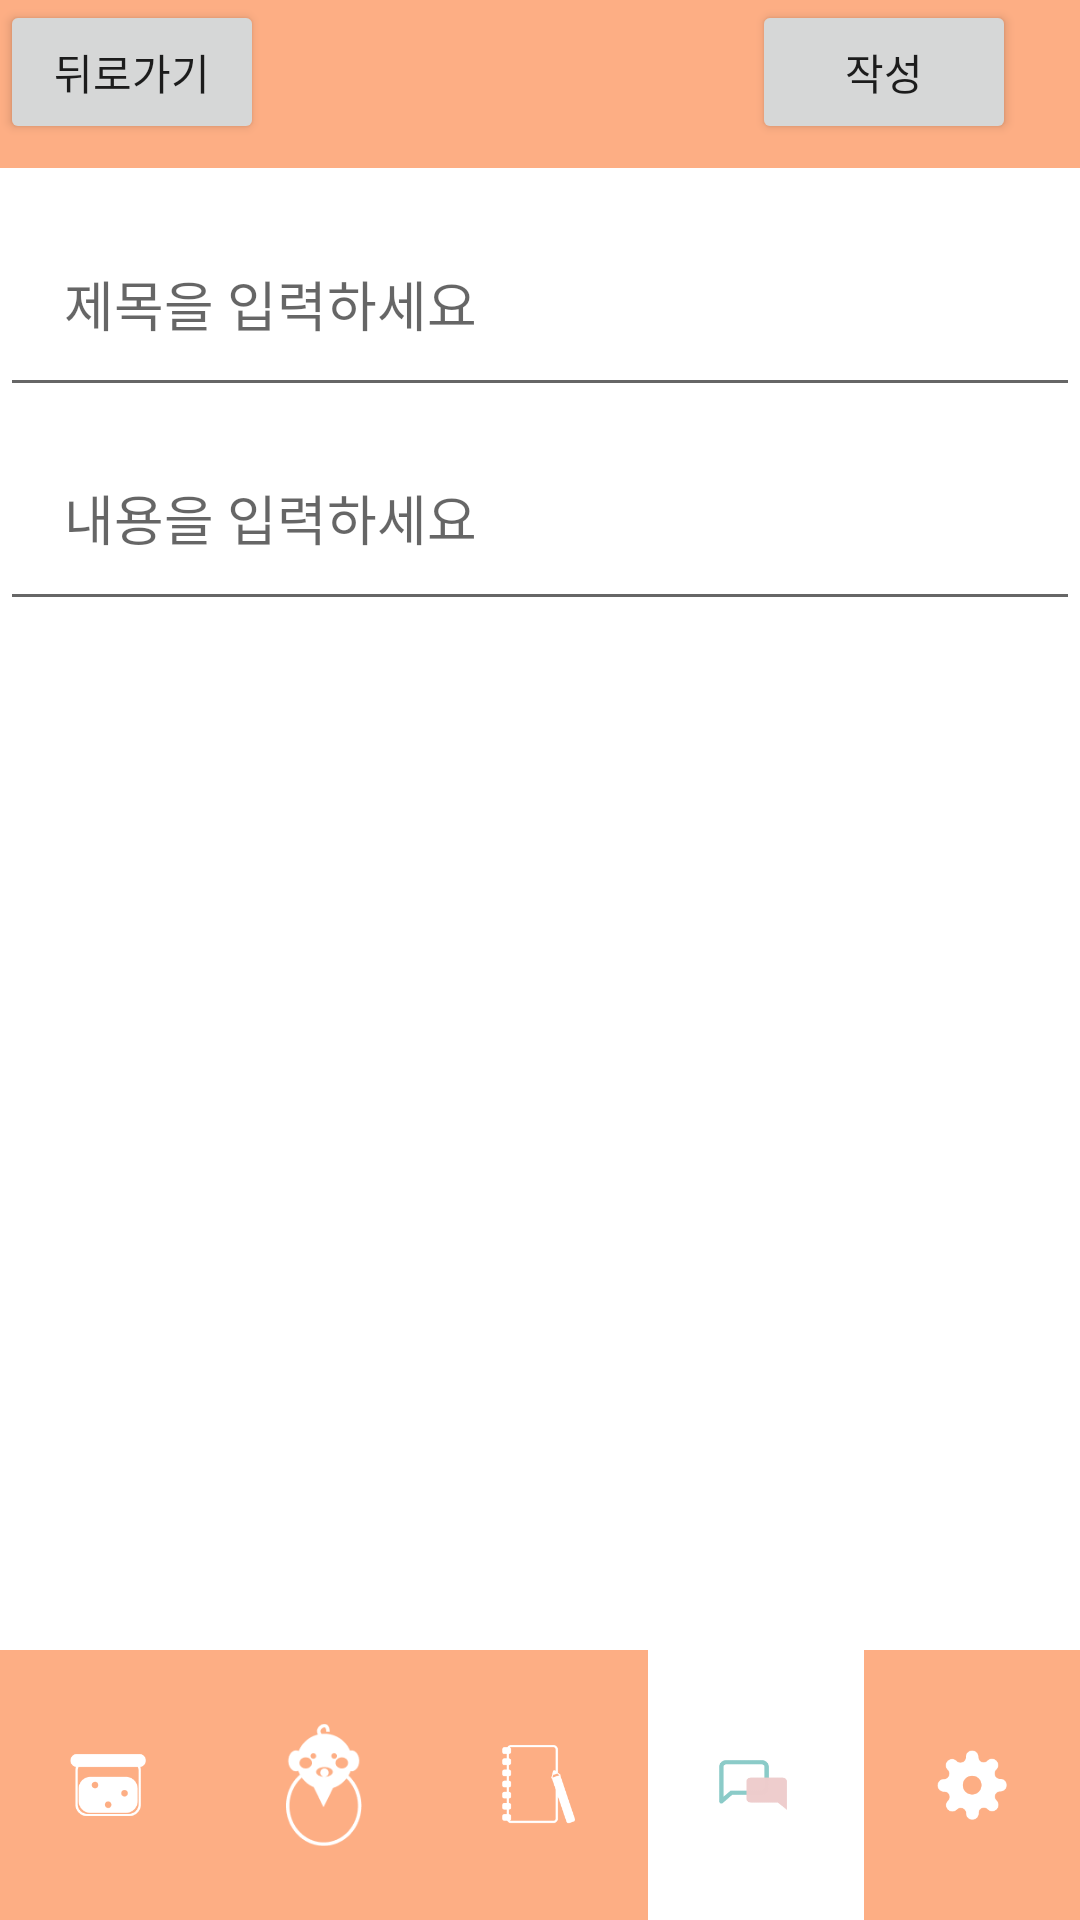

Screen size 1080 × 1920. Icon name, then its center in pixels as (x=x, y=y):
babybutton: (x=324, y=1785)
communitybutton: (x=753, y=1785)
diarybutton: (x=538, y=1784)
foodbutton: (x=108, y=1785)
settingbutton: (x=972, y=1785)
